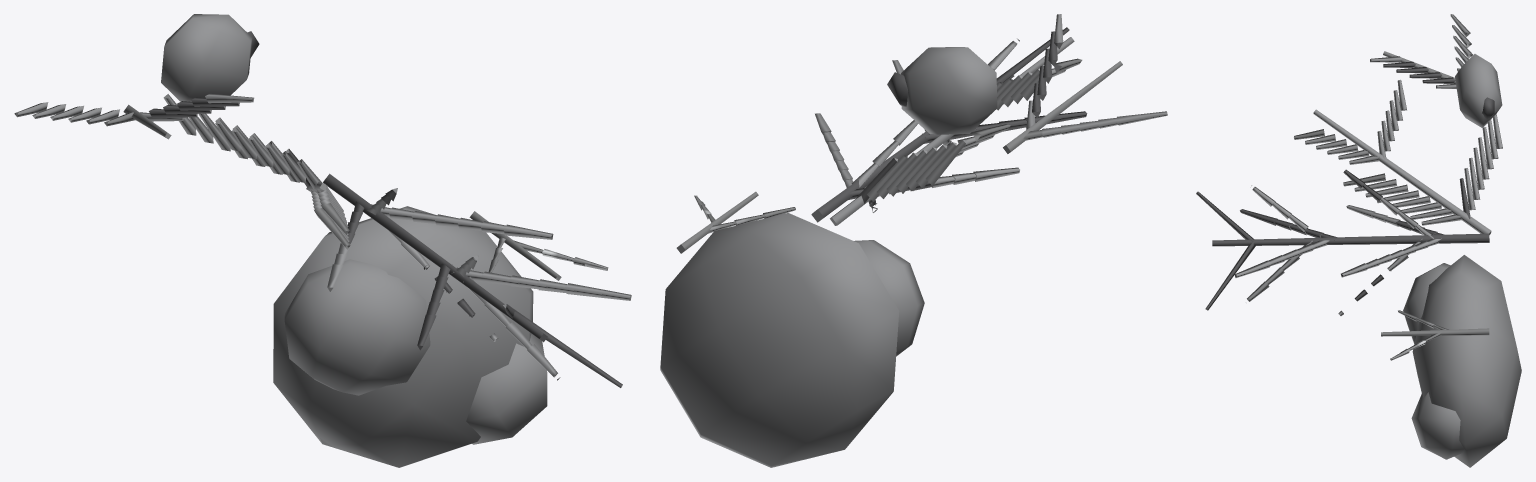
3 views of the same model, side by side, from view 1: azimuth 30°, elevation 25°; view 2: azimuth 150°, elevation 25°; view 3: azimuth 270°, elevation 25° (orthographic). The views are drawn at different scales.
Bounding box in the file's own units: 0.8853 × 0.7679 × 0.6887.
